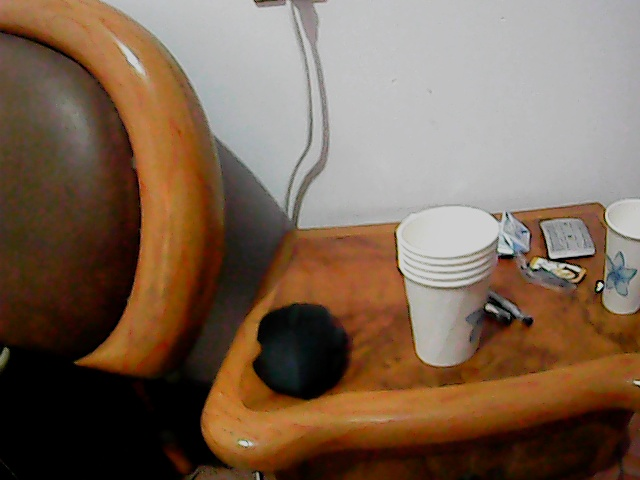cup: (391, 202, 499, 370)
mouse: (251, 301, 352, 397)
